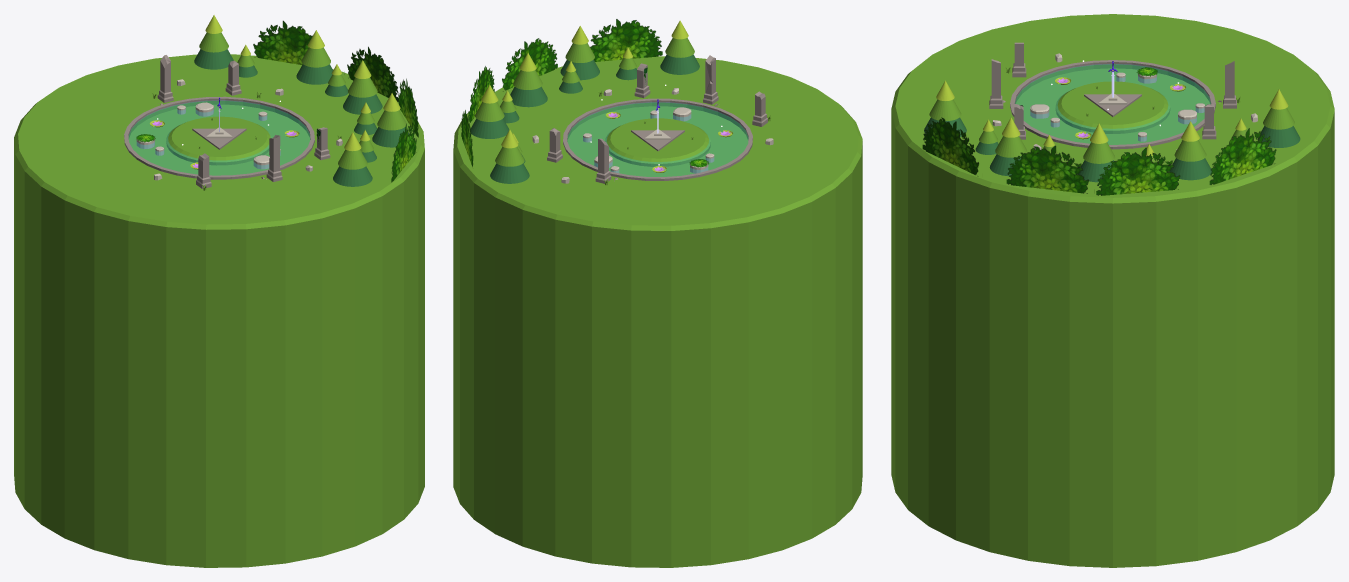
Rendered from heart_of_the_forest.glb.
The picture shows the model from 3 angles, left to right: view 1: azimuth 30°, elevation 25°; view 2: azimuth 150°, elevation 25°; view 3: azimuth 270°, elevation 25°; orthographic projection. The views are drawn at different scales.
Visible parts, largest first — view 1: Ground, Misc, Water, Leaf_Texture.003, Leaf_Texture, Leaf_Texture.004, Leaf_Texture.002; view 2: Ground, Misc, Water, Leaf_Texture.004, Leaf_Texture.002, Leaf_Texture; view 3: Ground, Misc, Water, Leaf_Texture, Leaf_Texture.002, Leaf_Texture.003, Leaf_Texture.004.
Boxes of the visible parts, left/top/right/bottom form: Ground: left=14, top=54, right=424, bottom=567; Misc: left=136, top=15, right=409, bottom=190; Water: left=129, top=100, right=309, bottom=175; Leaf_Texture.003: left=253, top=20, right=312, bottom=64; Leaf_Texture: left=347, top=46, right=398, bottom=101; Leaf_Texture.004: left=391, top=123, right=416, bottom=182; Leaf_Texture.002: left=398, top=78, right=418, bottom=137; Ground: left=453, top=56, right=862, bottom=567; Misc: left=470, top=20, right=773, bottom=185; Water: left=567, top=102, right=748, bottom=176; Leaf_Texture.004: left=590, top=19, right=662, bottom=61; Leaf_Texture.002: left=502, top=38, right=557, bottom=91; Leaf_Texture: left=468, top=66, right=494, bottom=122; Ground: left=891, top=14, right=1334, bottom=567; Misc: left=924, top=42, right=1300, bottom=182; Water: left=1015, top=64, right=1210, bottom=144; Leaf_Texture: left=1096, top=147, right=1180, bottom=195; Leaf_Texture.002: left=1006, top=145, right=1094, bottom=193; Leaf_Texture.003: left=1209, top=128, right=1276, bottom=184; Leaf_Texture.004: left=922, top=117, right=978, bottom=176.
Bounding box in the file's own units: 54030 × 56855 × 54030.
13 materials, 3 textured.
